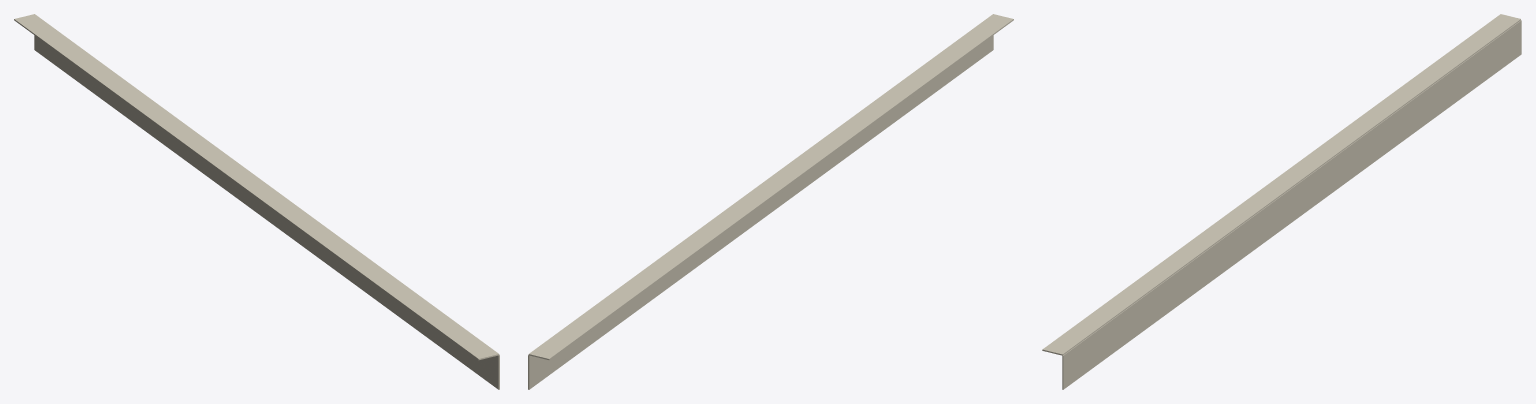
File: SERVICE_D09_SF_outer_03__shell.glb
3 views of the same model, side by side, from view 1: azimuth 30°, elevation 25°; view 2: azimuth 150°, elevation 25°; view 3: azimuth 330°, elevation 25° (orthographic).
Visible parts, largest first — view 1: SERVICE_D09_SF_outer_03__shell__ivory_enamel; view 2: SERVICE_D09_SF_outer_03__shell__ivory_enamel; view 3: SERVICE_D09_SF_outer_03__shell__ivory_enamel.
Boxes of the visible parts, box(x1,y1,x2,y2) form: SERVICE_D09_SF_outer_03__shell__ivory_enamel: box(14, 14, 499, 389); SERVICE_D09_SF_outer_03__shell__ivory_enamel: box(528, 14, 1013, 389); SERVICE_D09_SF_outer_03__shell__ivory_enamel: box(1042, 14, 1521, 389).
Size of the model in its own units: 2.05 by 3.32 by 78.
Materials: 2 (1 with a texture image).
